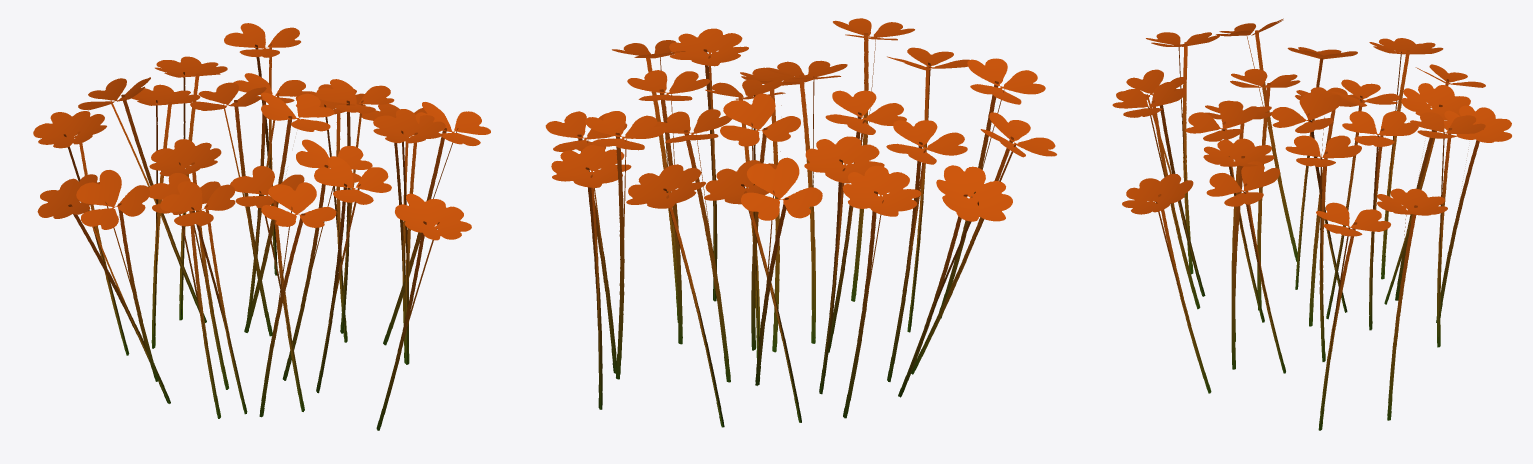
The model's file is CloverPatch_Mid_A.FBX.
3 renders of one model, left to right at view 1: azimuth 30°, elevation 25°; view 2: azimuth 150°, elevation 25°; view 3: azimuth 270°, elevation 25°, orthographic. The views are drawn at different scales.
Parts seen in each view (by area): view 1: CloverPatch_Mid_A; view 2: CloverPatch_Mid_A; view 3: CloverPatch_Mid_A.
Boxes of the visible parts, box(x1,y1,x2,y2) form: CloverPatch_Mid_A: box(33, 23, 490, 430); CloverPatch_Mid_A: box(545, 18, 1056, 427); CloverPatch_Mid_A: box(1112, 18, 1511, 430).
Size of the model in its own units: 1.25 by 0.8679 by 1.12.
